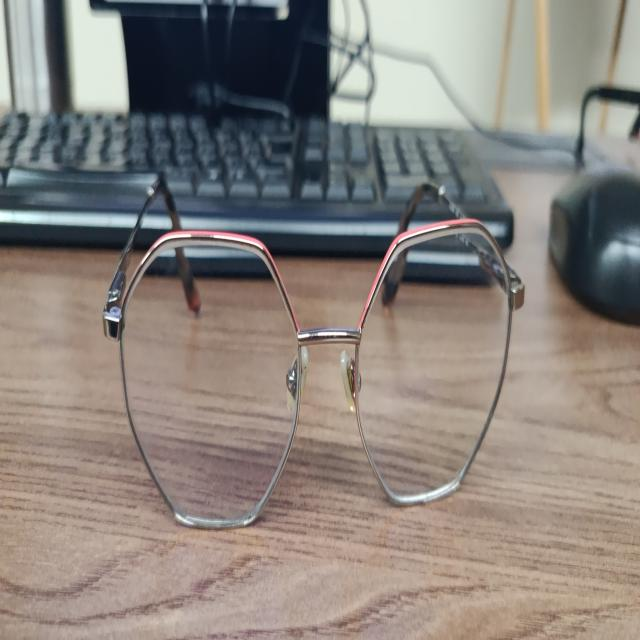sem_oculos: (106, 165, 531, 526), (103, 178, 525, 528)
